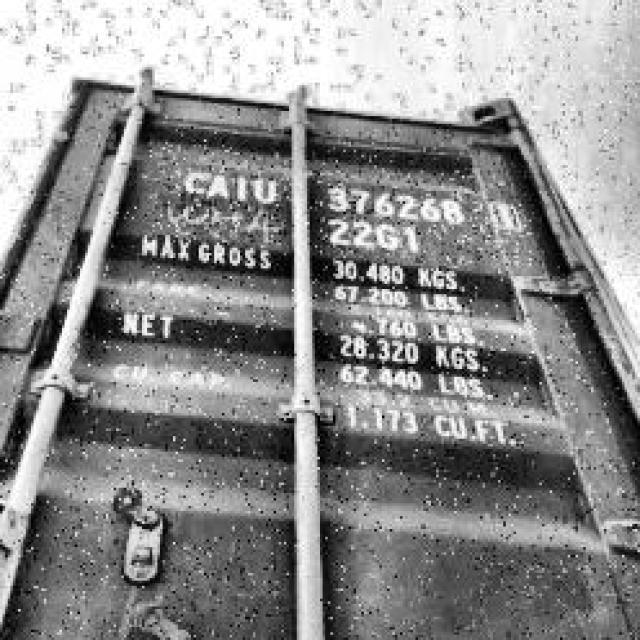ISO: (323, 210, 432, 254)
container_number: (178, 164, 536, 228)
